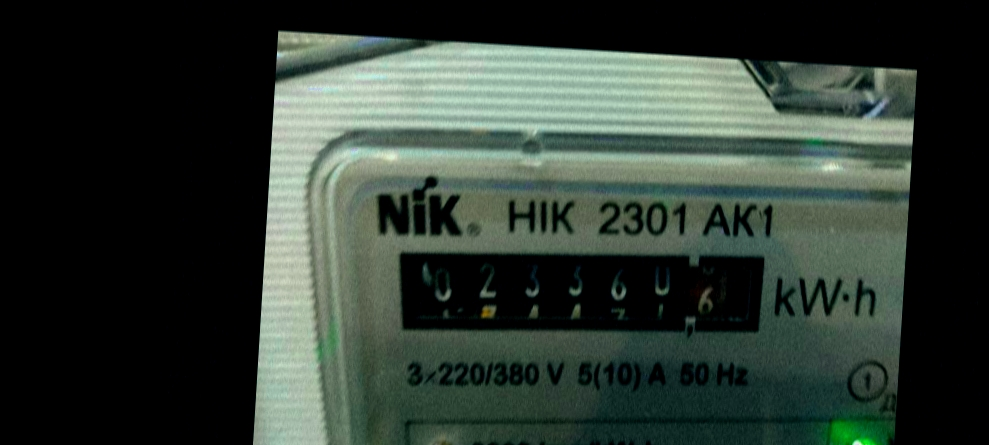0: (428, 261, 456, 305), (649, 260, 674, 298)
2: (472, 258, 501, 299)
3: (519, 259, 543, 300), (562, 259, 586, 299)
6: (603, 262, 632, 304), (695, 281, 718, 319)
screen: (372, 219, 779, 361)
